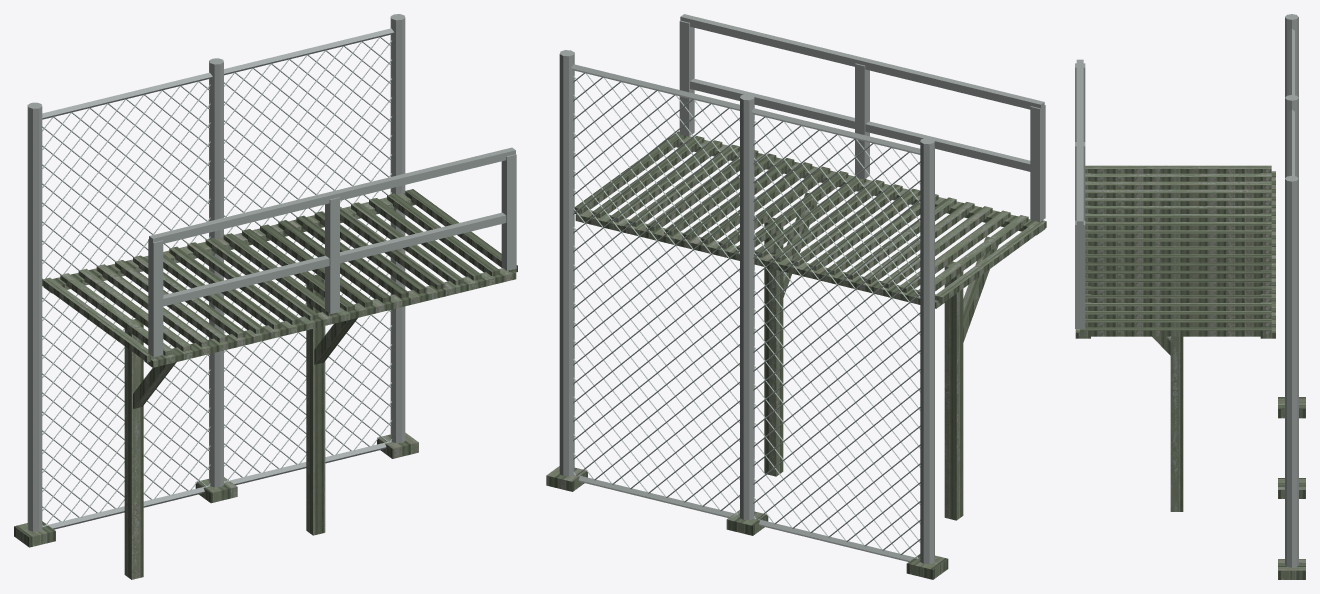
Rendered from cyclone-fence-3.gltf.
3 renders of one model, left to right at view 1: azimuth 30°, elevation 25°; view 2: azimuth 150°, elevation 25°; view 3: azimuth 270°, elevation 25°, orthographic. The views are drawn at different scales.
Visible parts, largest first — view 1: walkway-L1-metal, fence-L0-wire, fence-L0-iron, guards-L1-iron, structure-L0-metal, fence-L0-metal; view 2: walkway-L1-metal, fence-L0-wire, fence-L0-iron, guards-L1-iron, structure-L0-metal, fence-L0-metal; view 3: walkway-L1-metal, fence-L0-iron, guards-L1-iron, structure-L0-metal, fence-L0-metal.
Boxes of the visible parts, left/top/right/bottom form: walkway-L1-metal: left=42, top=189, right=517, bottom=367; fence-L0-wire: left=42, top=37, right=391, bottom=526; fence-L0-iron: left=27, top=14, right=405, bottom=531; guards-L1-iron: left=148, top=147, right=516, bottom=356; structure-L0-metal: left=124, top=274, right=357, bottom=579; fence-L0-metal: left=14, top=432, right=418, bottom=547; walkway-L1-metal: left=574, top=131, right=1046, bottom=308; fence-L0-wire: left=573, top=72, right=920, bottom=559; fence-L0-iron: left=559, top=50, right=934, bottom=564; guards-L1-iron: left=679, top=14, right=1045, bottom=222; structure-L0-metal: left=764, top=192, right=998, bottom=520; fence-L0-metal: left=546, top=466, right=948, bottom=579; walkway-L1-metal: left=1075, top=165, right=1275, bottom=338; fence-L0-iron: left=1285, top=14, right=1298, bottom=567; guards-L1-iron: left=1075, top=59, right=1085, bottom=328; structure-L0-metal: left=1152, top=336, right=1183, bottom=511; fence-L0-metal: left=1278, top=397, right=1305, bottom=579.
Size of the model in its own units: 3.22 by 3.42 by 1.81.
Materials: 3 (1 with a texture image).
